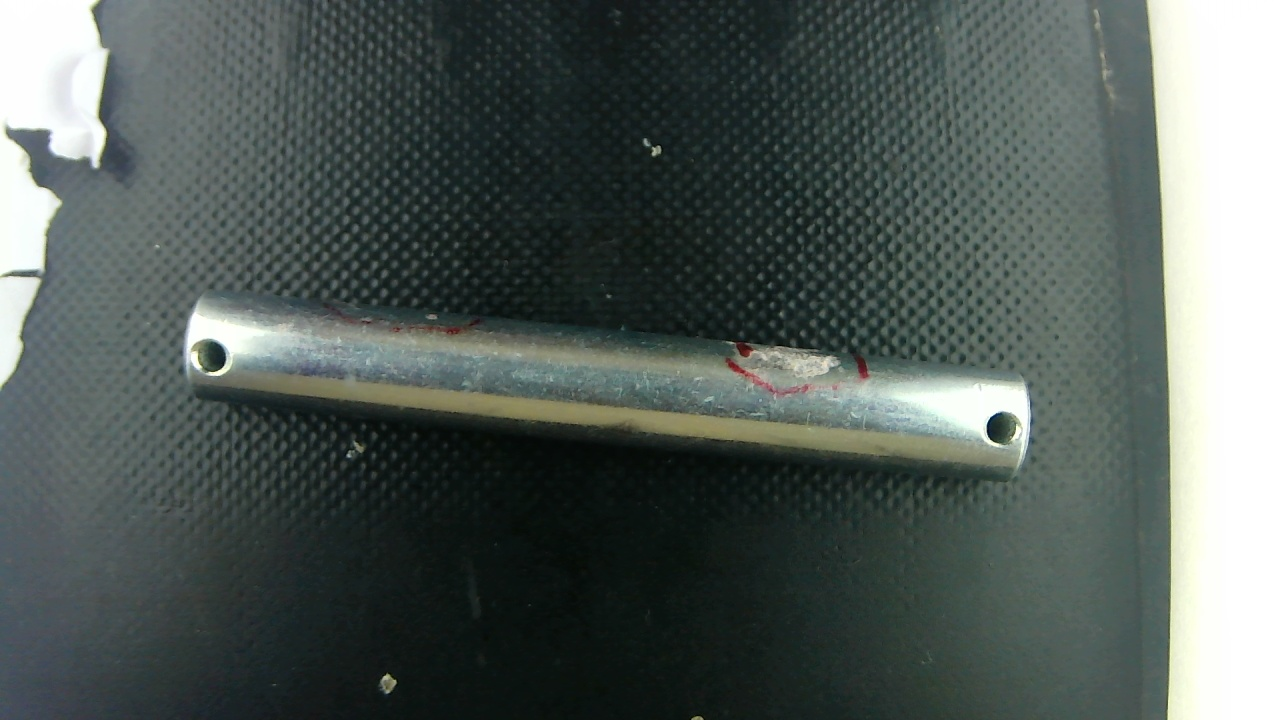whiterust_pin: (746, 335, 843, 383)
